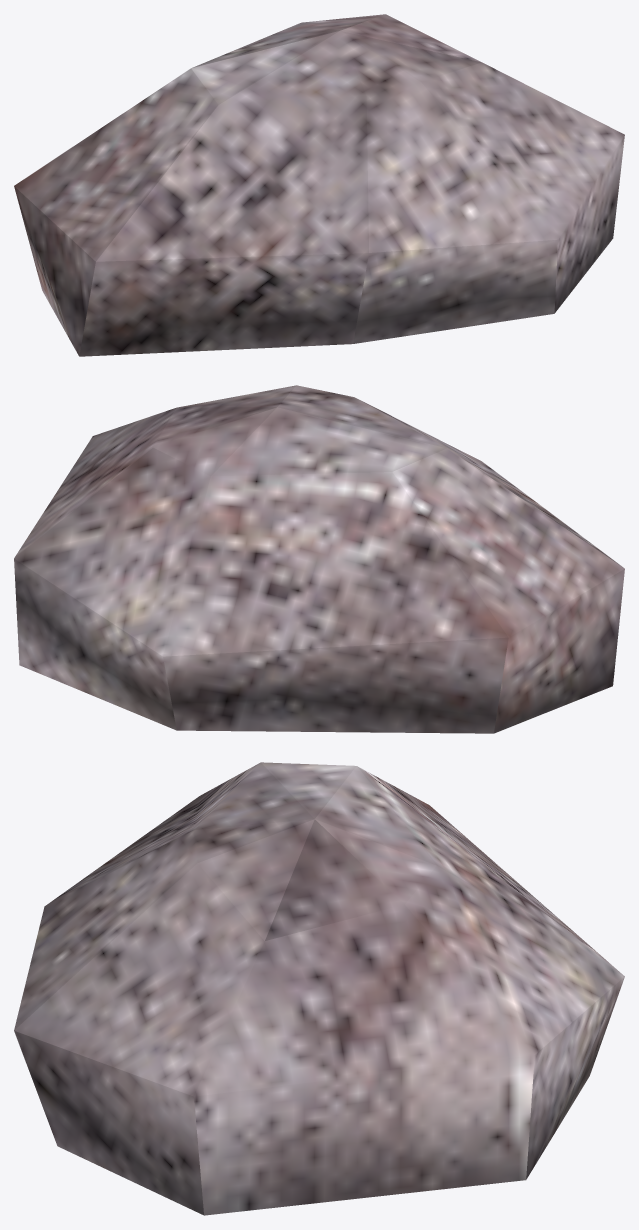
File: MS_Rock_1.fbx
3 renders of one model, top to bottom at view 1: azimuth 30°, elevation 25°; view 2: azimuth 150°, elevation 25°; view 3: azimuth 270°, elevation 25°, orthographic. The views are drawn at different scales.
Visible parts, largest first — view 1: Cylinder; view 2: Cylinder; view 3: Cylinder.
Part boxes in pixels (x1,y1,x2,y2): Cylinder: (14, 14, 624, 356); Cylinder: (14, 385, 624, 733); Cylinder: (14, 762, 624, 1215).
Size of the model in its own units: 131 by 54.01 by 112.
